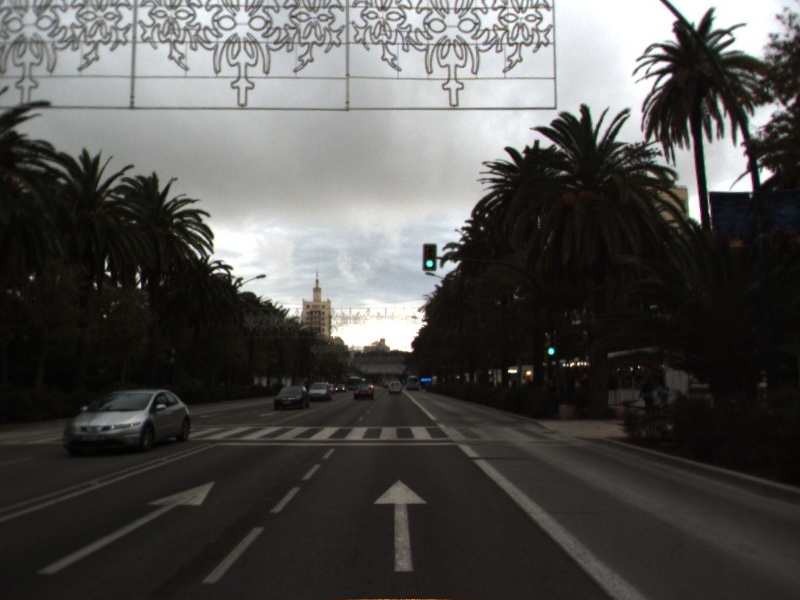STRAIGHT: (34, 478, 218, 577), (371, 477, 430, 574)
